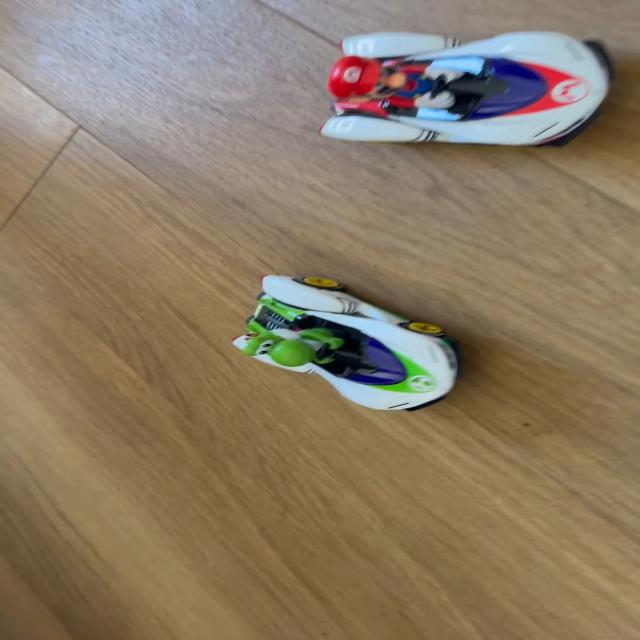mario: (302, 18, 634, 155)
yoshi: (208, 270, 478, 423)
